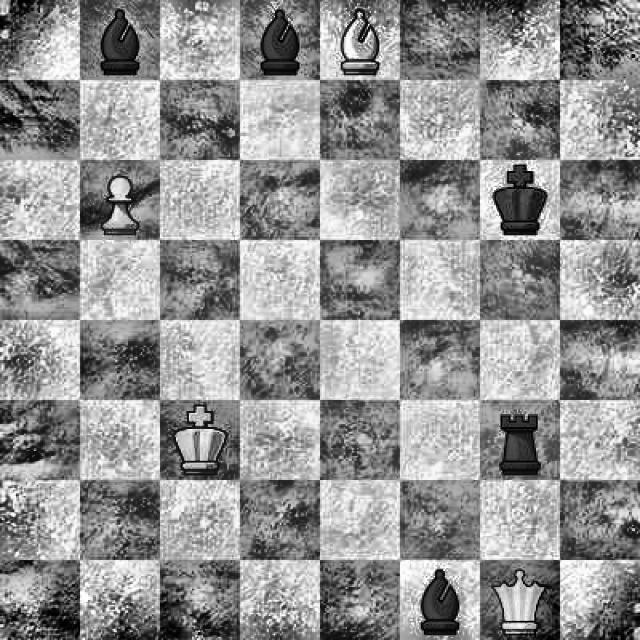black bishop: (244, 3, 318, 82), (406, 560, 472, 638), (84, 6, 156, 77)
black king: (486, 165, 552, 238)
black rook: (488, 403, 547, 472)
white bishop: (328, 2, 392, 77)
white king: (159, 402, 238, 478)
white pawn: (92, 168, 149, 242)
